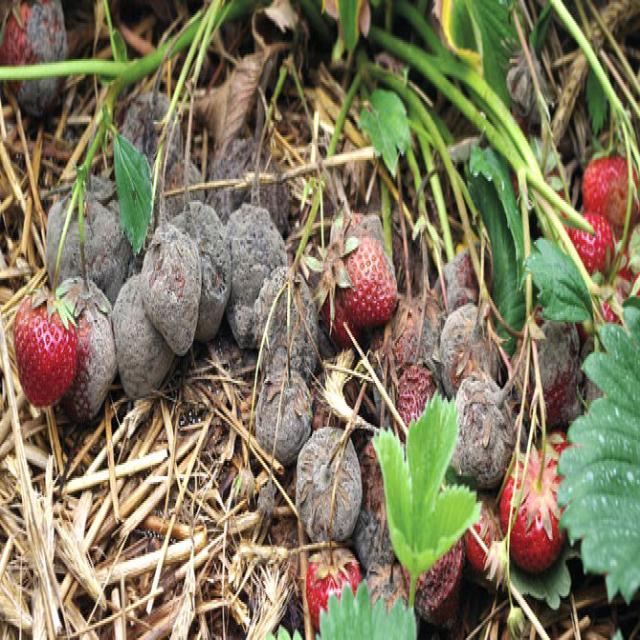Fruta sana: (508, 454, 568, 578), (18, 292, 76, 406)
Moho gris: (46, 164, 130, 305), (320, 196, 401, 330), (223, 206, 296, 353), (51, 274, 118, 418), (110, 268, 178, 400), (171, 185, 229, 336), (140, 215, 201, 353), (296, 424, 364, 544), (259, 252, 318, 380), (524, 292, 583, 420), (451, 374, 514, 488), (6, 5, 70, 109), (122, 80, 190, 175), (256, 344, 310, 454), (440, 302, 500, 392)
